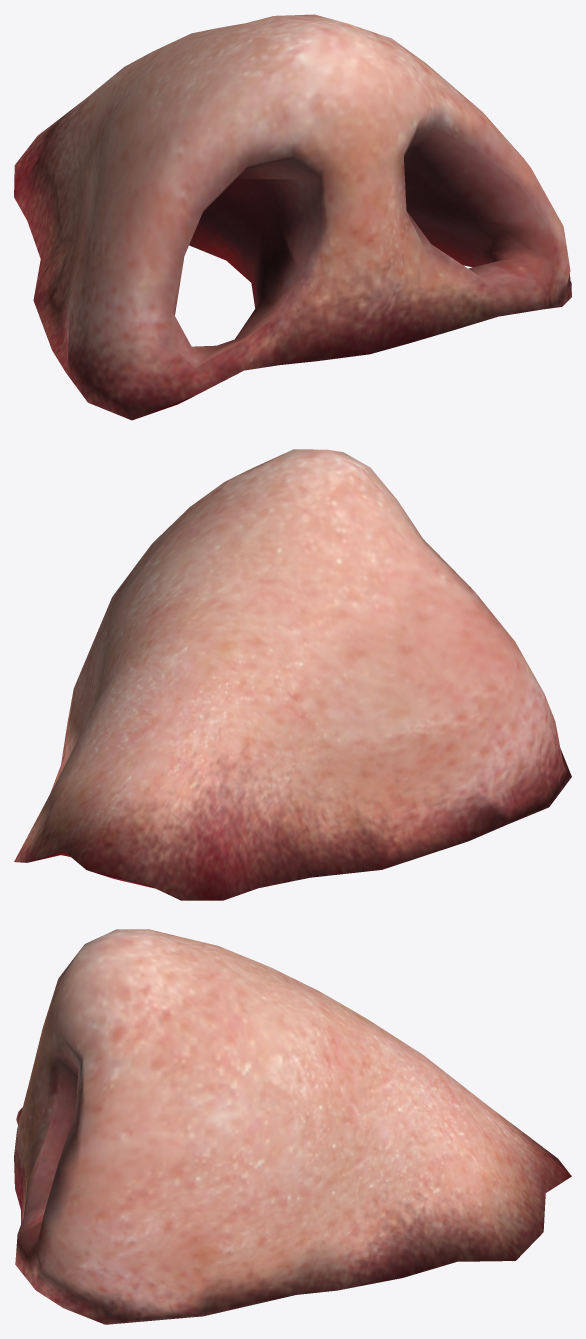
Rendered from Nose_4.fbx.
3 views of the same model, one above another, from view 1: azimuth 30°, elevation 25°; view 2: azimuth 150°, elevation 25°; view 3: azimuth 270°, elevation 25° (orthographic). The views are drawn at different scales.
Visible parts, largest first — view 1: nose_4; view 2: nose_4; view 3: nose_4.
Part boxes in pixels (left/top/right/bottom): nose_4: left=14, top=14, right=571, bottom=420; nose_4: left=14, top=449, right=571, bottom=900; nose_4: left=14, top=929, right=571, bottom=1324.
Size of the model in its own units: 0.042 by 0.0264 by 0.0461.
